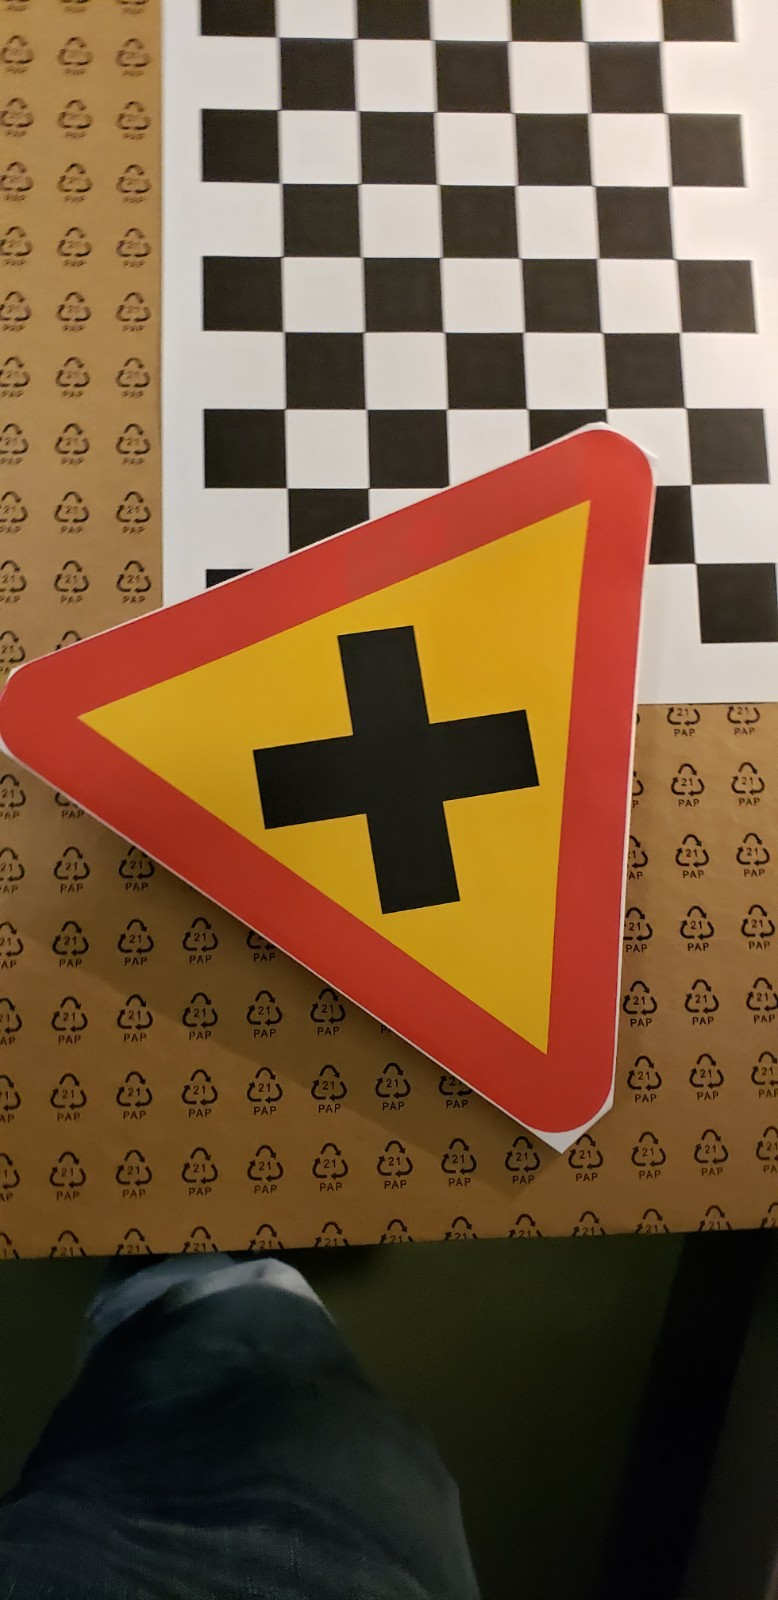junction: (13, 403, 726, 1189)
